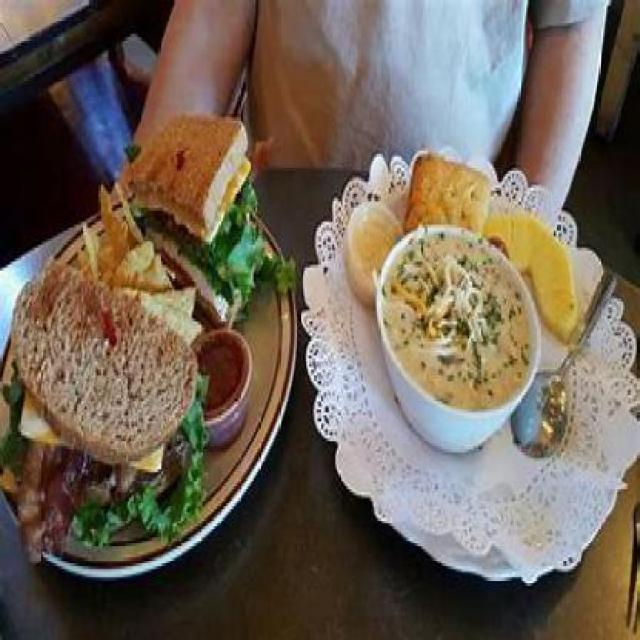clam chowder: (373, 210, 542, 447)
club sandwich: (8, 261, 200, 577), (126, 114, 285, 301)
french fries: (72, 177, 192, 332)
